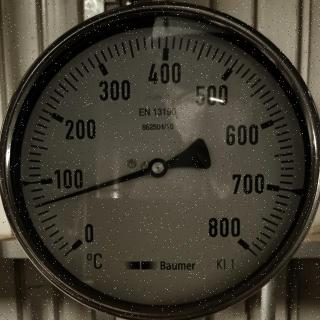gauge: (0, 0, 320, 320), (63, 227, 93, 257), (227, 224, 253, 256), (147, 156, 169, 178), (32, 200, 46, 212)
